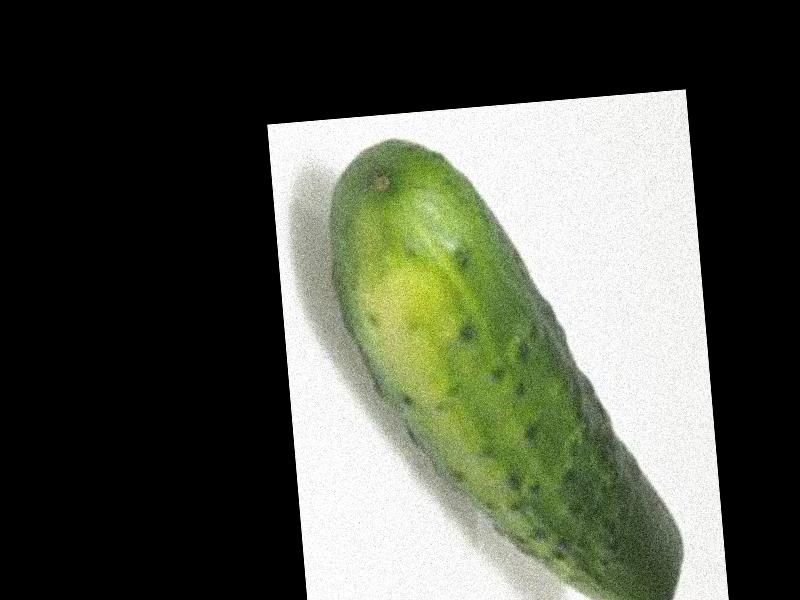Cucumber: (325, 121, 688, 600)
